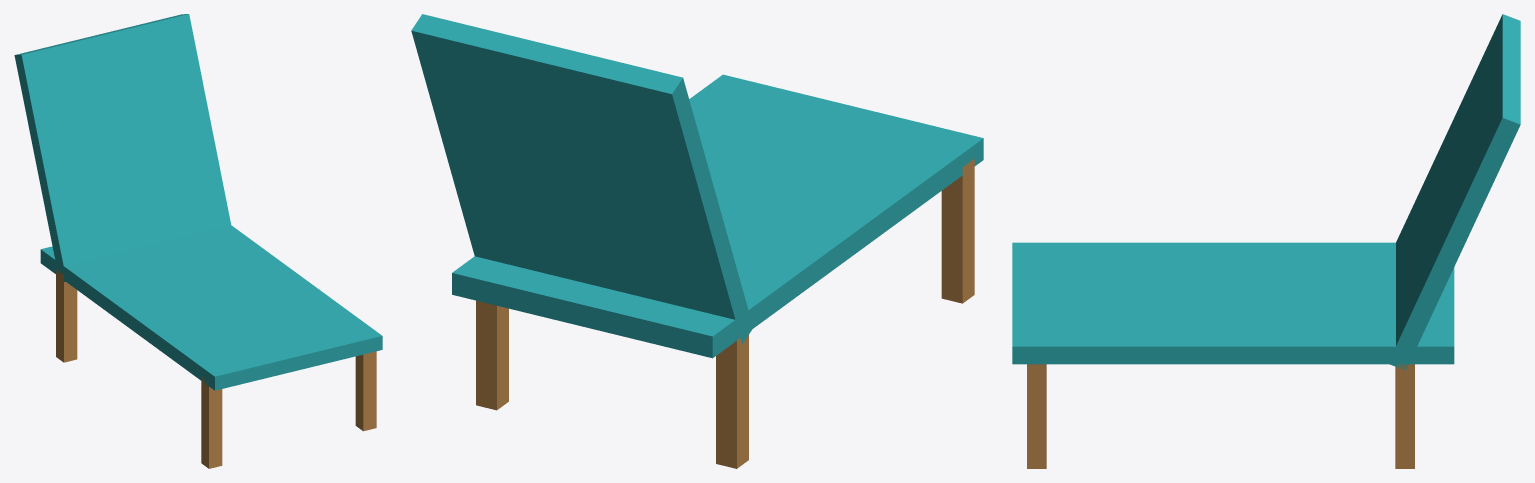
The model's file is beach_chair.glb.
3 renders of one model, left to right at view 1: azimuth 30°, elevation 25°; view 2: azimuth 150°, elevation 25°; view 3: azimuth 270°, elevation 25°, orthographic. The views are drawn at different scales.
Visible parts, largest first — view 1: beach_chair; view 2: beach_chair; view 3: beach_chair.
Boxes of the visible parts, x1,y1,x2,y2 form: beach_chair: [14, 14, 382, 468]; beach_chair: [411, 14, 983, 468]; beach_chair: [1012, 14, 1520, 468].
Size of the model in its own units: 0.5 by 0.7891 by 1.04.
